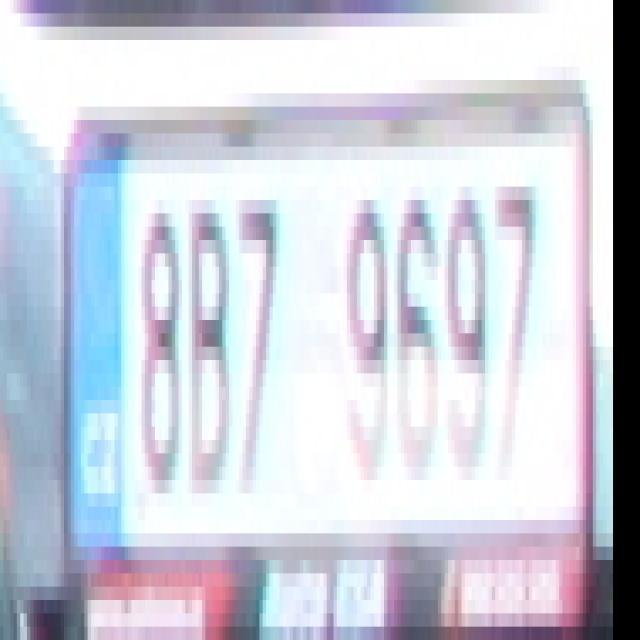6: (394, 173, 441, 480)
7: (495, 160, 539, 493), (236, 186, 280, 494)
8: (138, 200, 179, 493)
9: (340, 173, 390, 480), (444, 173, 488, 480)
B: (185, 186, 229, 506)
